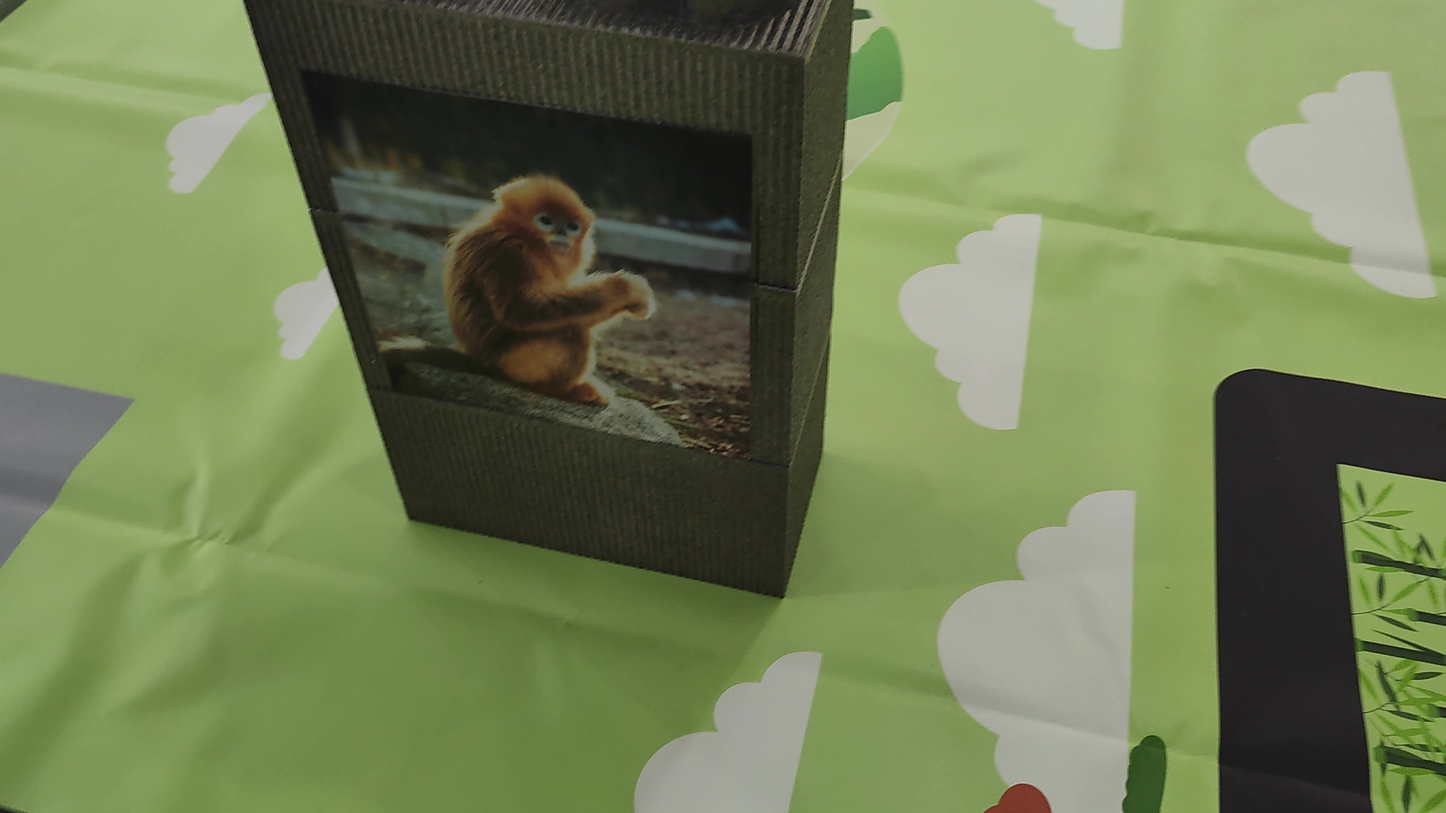monkey: (393, 141, 684, 403)
